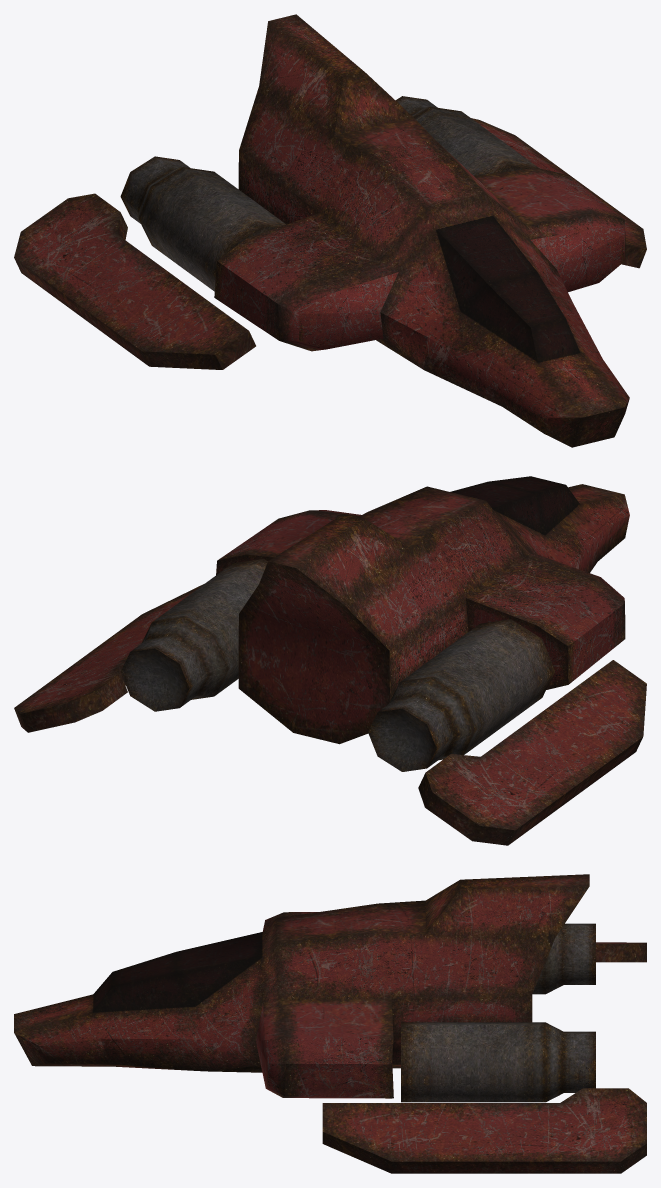
Rendered from Ship3.fbx.
3 renders of one model, top to bottom at view 1: azimuth 30°, elevation 25°; view 2: azimuth 150°, elevation 25°; view 3: azimuth 270°, elevation 25°, orthographic. The views are drawn at different scales.
Parts seen in each view (by area): view 1: Mesh Object; view 2: Mesh Object; view 3: Mesh Object.
Part boxes in pixels (x1=…): Mesh Object: x1=14, y1=14, x2=646, y2=447; Mesh Object: x1=14, y1=476, x2=646, y2=845; Mesh Object: x1=14, y1=874, x2=646, y2=1173.
Size of the model in its own units: 1.77 by 0.7029 by 2.16.
